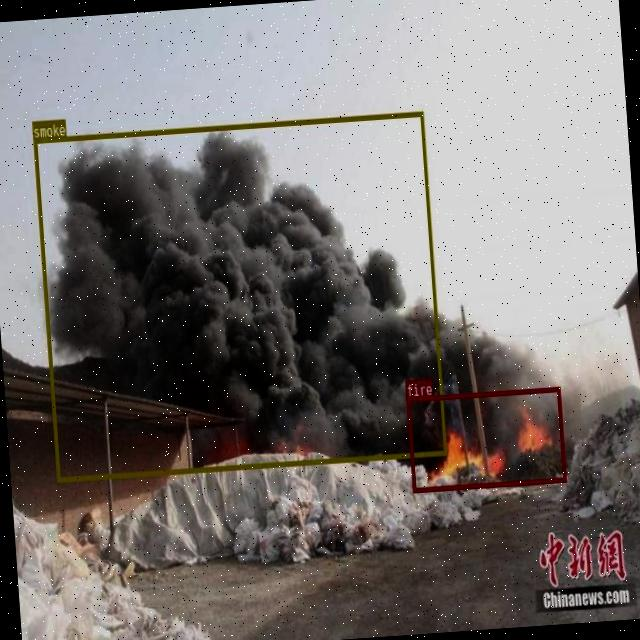fire: (406, 386, 565, 490)
smoke: (32, 110, 446, 481)
